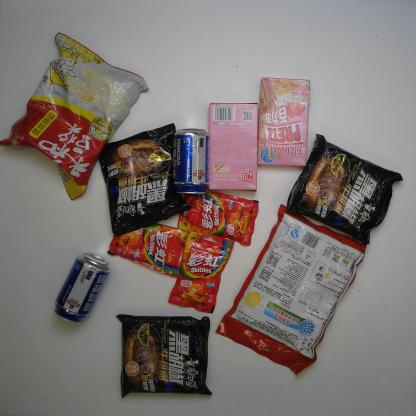Alcohol: (52, 250, 111, 324), (172, 127, 210, 196)
Candy: (167, 230, 236, 315), (176, 190, 260, 247), (106, 223, 188, 278)
Dessert: (256, 76, 314, 167), (207, 101, 260, 192)
Instant Drink: (213, 202, 369, 377), (0, 30, 150, 203)
Instant Noodles: (286, 133, 404, 245), (99, 121, 193, 236), (114, 312, 216, 401)
